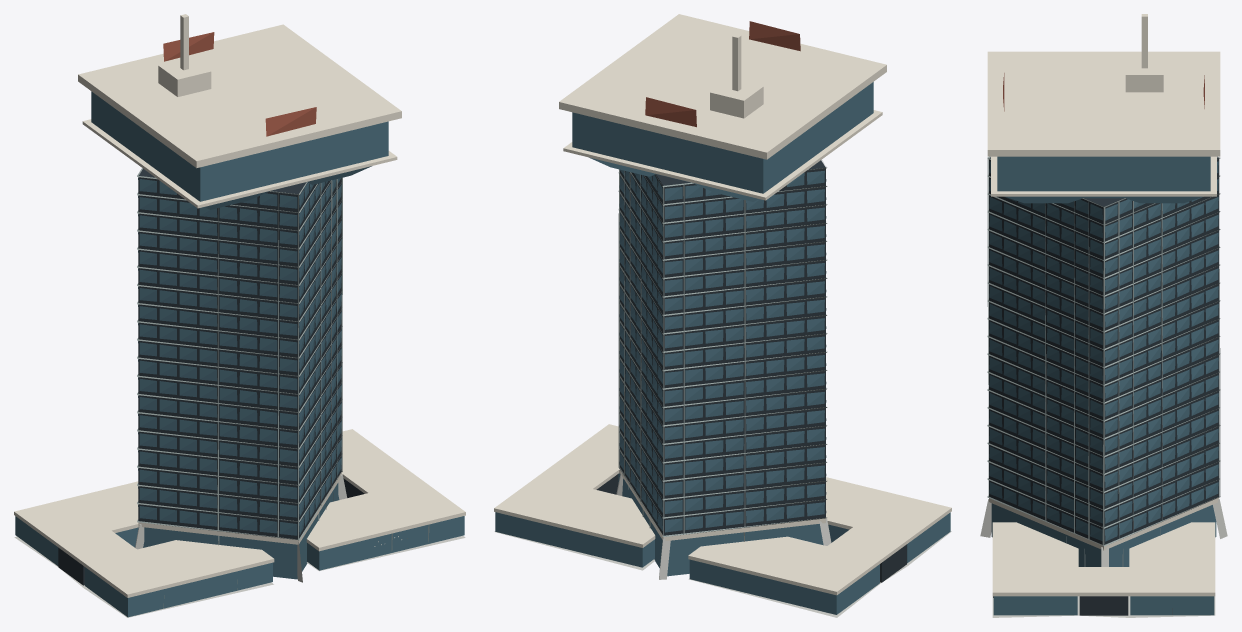
The model's file is adam-tower.lod1.glb.
3 renders of one model, left to right at view 1: azimuth 30°, elevation 25°; view 2: azimuth 150°, elevation 25°; view 3: azimuth 270°, elevation 25°, orthographic. The views are drawn at different scales.
Visible parts, largest first — view 1: adam-tower; view 2: adam-tower; view 3: adam-tower.
Boxes of the visible parts, box(x1,y1,x2,y2) form: adam-tower: box(14, 14, 465, 617); adam-tower: box(494, 14, 951, 617); adam-tower: box(980, 14, 1227, 617).
Bounding box in the file's own units: 60.51 × 88.15 × 39.06.
